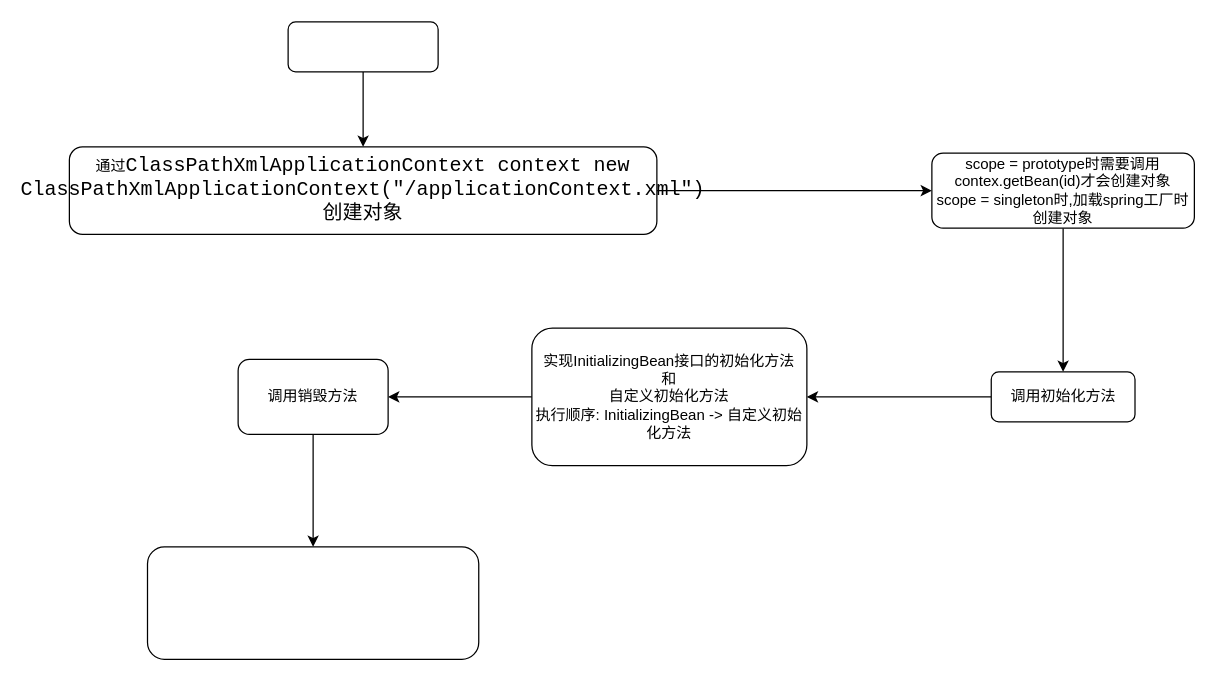
The diagram is 1216 pixels wide and 681 high, and some of its shapes have lost their labels. The box of each missing label's shape, as (x1, y1, x2, y2) in pixels:
创建阶段: (287, 21, 438, 72)
实现 DisposableBean 接口的销毁方法 和 自定义销毁方法 执行顺序: DisposableBean-> 自定义销毁方法: (146, 546, 479, 659)
